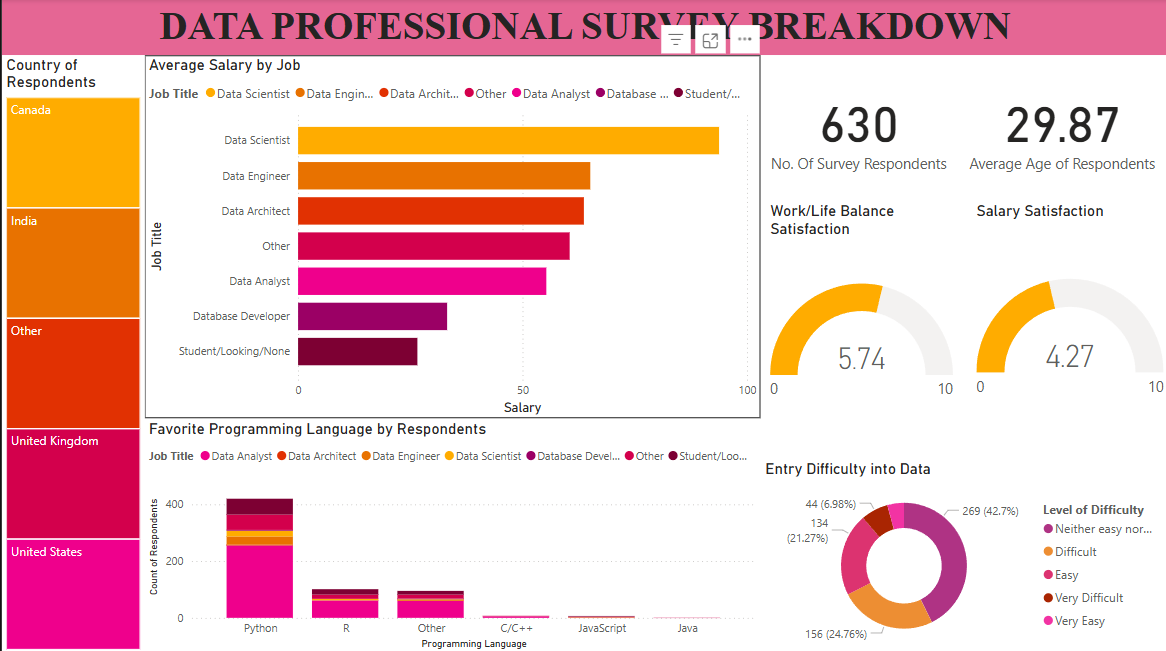

The page's visual inventory and layout, read from the dashboard file:
{"tool":"powerbi","page":{"name":"Page 1","canvas":[1280,720],"ordinal":0},"visuals":[{"type":"textbox","box":[0,0,1280.3,61.8],"z":0},{"type":"card","fields":{"Values":["Count(Data Professional Survey.Unique ID)"]},"box":[833.5,61.8,215.5,160],"z":1000},{"type":"card","fields":{"Values":["Avg(Data Professional Survey.Q10 - Current Age)"]},"box":[1049,61.8,231.3,160],"z":2000},{"type":"barChart","title":"Average Salary by Job","fields":{"Category":["Data Professional Survey.Q1 - Which Title Best Fits your Current Role?.1"],"Y":["Avg(Data Professional Survey.Average Salary)"],"Series":["Data Professional Survey.Q1 - Which Title Best Fits your Current Role?.1"]},"box":[156.9,61.8,676.6,399.3],"z":3000},{"type":"columnChart","title":"Favorite Programming Language by Respondents","fields":{"Category":["Data Professional Survey.Q5 - Favorite Programming Language.1"],"Y":["CountNonNull(Data Professional Survey.Unique ID)"],"Series":["Data Professional Survey.Q1 - Which Title Best Fits your Current Role?.1"]},"box":[156.9,461.1,676.6,258.3],"z":4000},{"type":"treemap","title":"Country of Respondents","fields":{"Group":["Data Professional Survey.Q11 - Which Country do you live in?.1"],"Values":["Count(Data Professional Survey.Q11 - Which Country do you live in?.1)"]},"box":[0,61.8,156.9,657.6],"z":5000},{"type":"gauge","title":"Work/Life Balance Satisfaction ","fields":{"Y":["Avg(Data Professional Survey.Q6 - How Happy are you in your Current Position with the following? (Work/Life Balance))"],"MinValue":["Min(Data Professional Survey.Q6 - How Happy are you in your Current Position with the following? (Work/Life Balance))1"],"MaxValue":["Max(Data Professional Survey.Q6 - How Happy are you in your Current Position with the following? (Work/Life Balance))2"]},"box":[838.2,221.8,210.7,271],"z":6000},{"type":"gauge","title":"Salary Satisfaction","fields":{"Y":["Avg(Data Professional Survey.Q6 - How Happy are you in your Current Position with the following? (Salary))"],"MinValue":["Min(Data Professional Survey.Q6 - How Happy are you in your Current Position with the following? (Salary))"],"MaxValue":["Max(Data Professional Survey.Q6 - How Happy are you in your Current Position with the following? (Salary))1"]},"box":[1064.8,221.8,215.5,283.6],"z":7000},{"type":"donutChart","title":"Entry Difficulty into Data","fields":{"Category":["Data Professional Survey.Q7 - How difficult was it for you to break into Data?"],"Y":["CountNonNull(Data Professional Survey.Q7 - How difficult was it for you to break into Data?)"]},"box":[833.5,505.5,446.8,213.9],"z":8000}]}

Visuals, with their boxes in screenshot pixels (x1, y1, x2, y2), scaled from the page's 1280x720 canvas onto the 1166x651 screenshot:
textbox: bbox=(0, 0, 1165, 56)
card - Count(Data Professional Survey.Unique ID): bbox=(759, 56, 956, 201)
card - Avg(Data Professional Survey.Q10 - Current Age): bbox=(956, 56, 1165, 201)
"Average Salary by Job" barChart: bbox=(143, 56, 759, 417)
"Favorite Programming Language by Respondents" columnChart: bbox=(143, 417, 759, 650)
"Country of Respondents" treemap: bbox=(0, 56, 143, 650)
"Work/Life Balance Satisfaction " gauge: bbox=(764, 201, 955, 446)
"Salary Satisfaction" gauge: bbox=(970, 201, 1165, 457)
"Entry Difficulty into Data" donutChart: bbox=(759, 457, 1165, 650)
